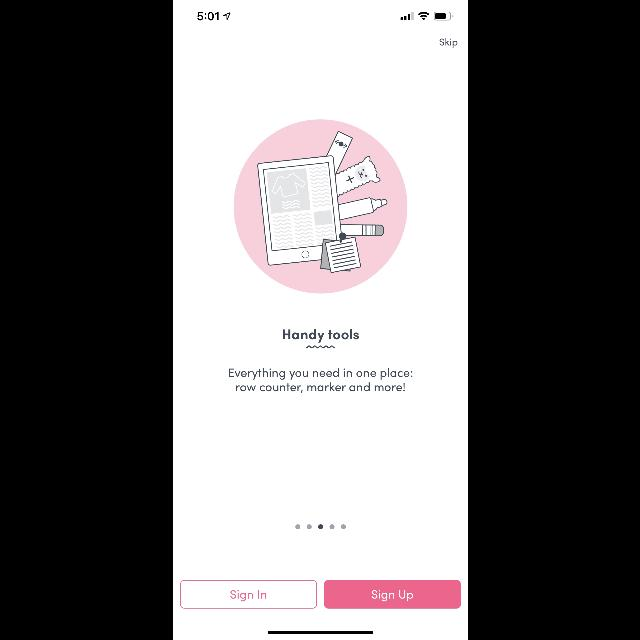image: (233, 120, 407, 294)
pageindicator: (295, 524, 345, 530)
text: (228, 368, 412, 394), (282, 330, 358, 342), (439, 38, 457, 48)
textbutton: (324, 580, 461, 608), (180, 580, 316, 608)
uppertaskbar: (196, 12, 452, 21)
